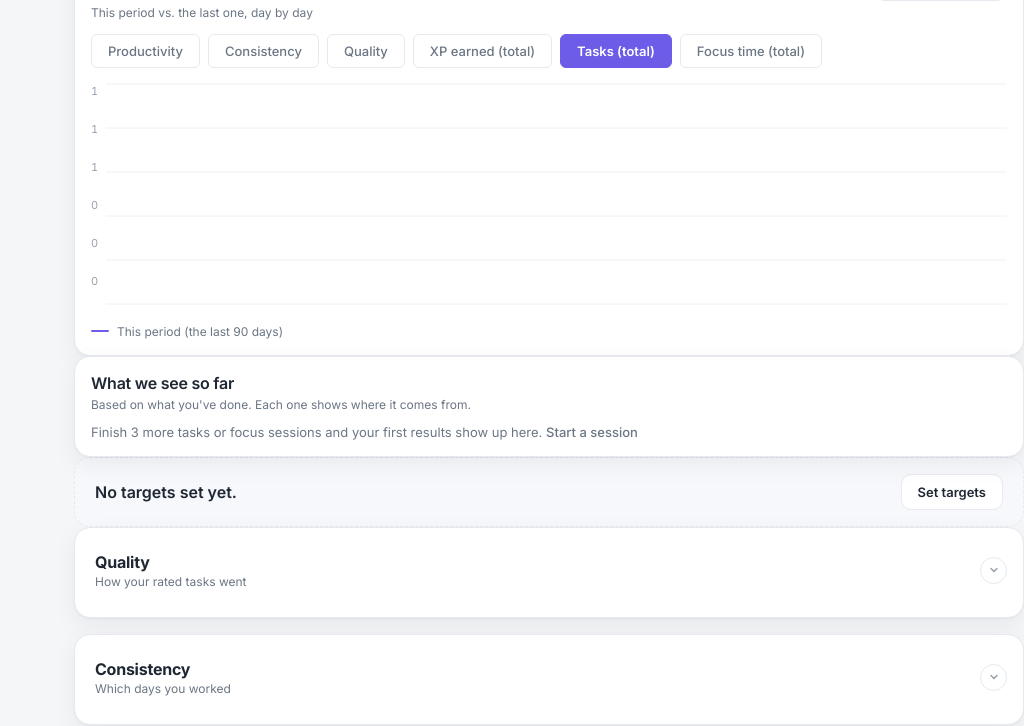
Overview › opens a group on a click and shuts it again on the next
The width and height of the screenshot is (1024, 726).
(page scrolled)
What coordinates should you click on to do the following:
click the 2nd button with class "ax-group-head"
I would click on:
 (143, 669)
Its box is [87,647,1015,708].
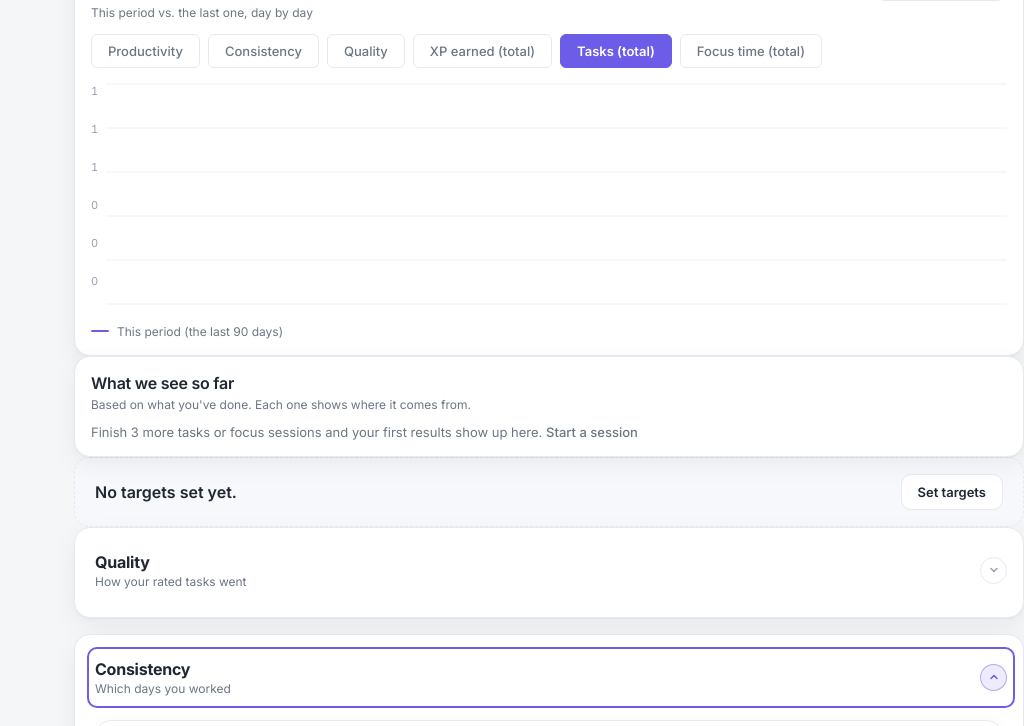
Result: the button with class "ax-group-head" is expanded
What coordinates should you click on to do the following:
click the 2nd button with class "ax-group-head"
I would click on:
 (143, 669)
Its box is [87,647,1015,708].
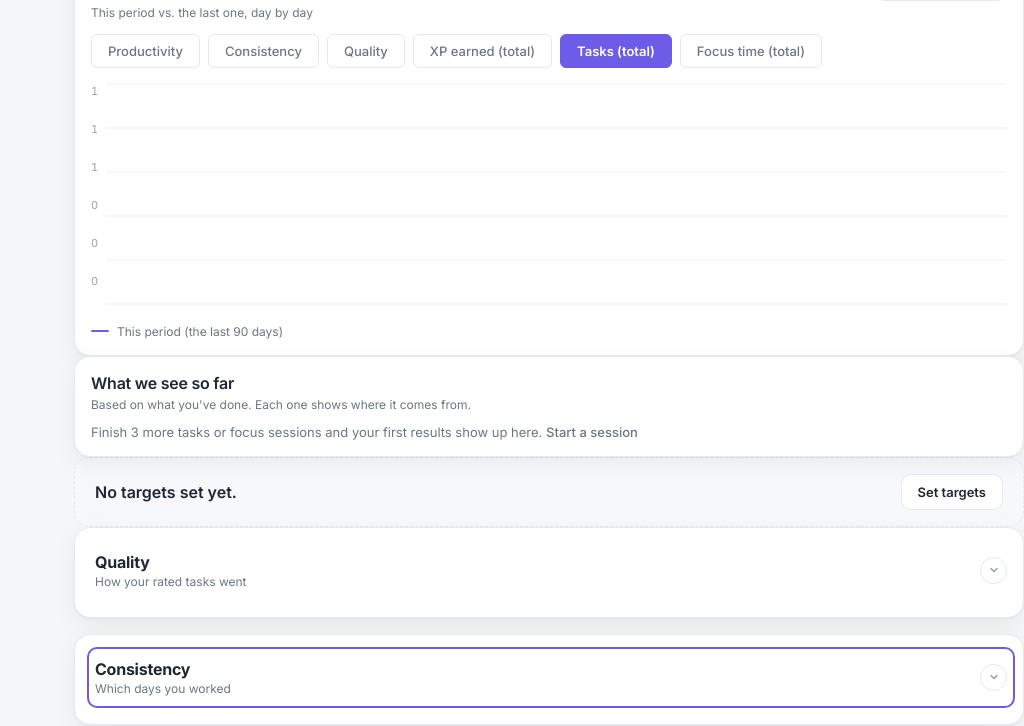
Result: the button with class "ax-group-head" is collapsed at [87,647,1015,708]
